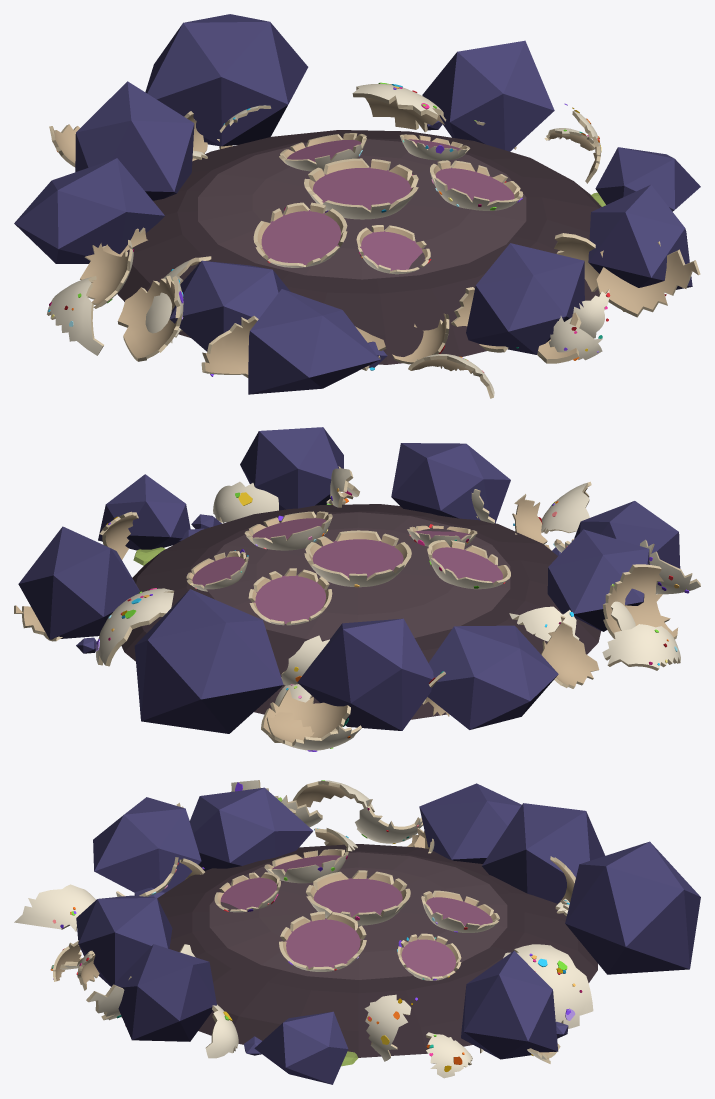
The model's file is Mine_EggCluster_Cracked.fbx.
3 views of the same model, one above another, from view 1: azimuth 30°, elevation 25°; view 2: azimuth 150°, elevation 25°; view 3: azimuth 270°, elevation 25° (orthographic). The views are drawn at different scales.
Parts seen in each view (by area): view 1: Mine_EggCluster_Cracked_Body, Mine_EggCluster_Cracked_Eggs; view 2: Mine_EggCluster_Cracked_Body, Mine_EggCluster_Cracked_Eggs; view 3: Mine_EggCluster_Cracked_Body, Mine_EggCluster_Cracked_Eggs.
Part boxes in pixels (x1=…): Mine_EggCluster_Cracked_Body: x1=14, y1=14, x2=700, y2=394; Mine_EggCluster_Cracked_Eggs: x1=47, y1=82, x2=700, y2=398; Mine_EggCluster_Cracked_Body: x1=18, y1=427, x2=680, y2=733; Mine_EggCluster_Cracked_Eggs: x1=14, y1=466, x2=700, y2=751; Mine_EggCluster_Cracked_Body: x1=76, y1=783, x2=700, y2=1084; Mine_EggCluster_Cracked_Eggs: x1=14, y1=780, x2=593, y2=1078.
Bounding box in the file's own units: 1.94 × 0.3587 × 2.05.
